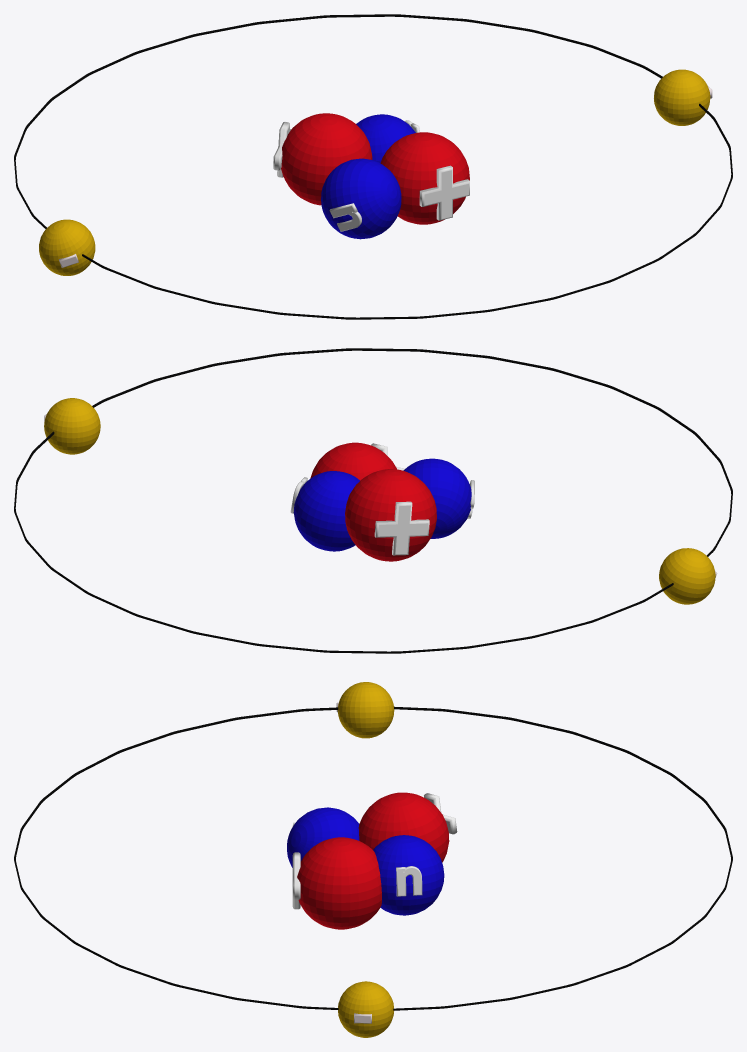
3 renders of one model, top to bottom at view 1: azimuth 30°, elevation 25°; view 2: azimuth 150°, elevation 25°; view 3: azimuth 270°, elevation 25°, orthographic.
Visible parts, largest first — view 1: Sphere.005, Sphere.004, Sphere, Circle, Sphere.003, Sphere.002, Sphere.001, Text, Text.004; view 2: Sphere.005, Circle, Sphere.001, Sphere.004, Sphere.003, Sphere.002, Sphere, Text.005; view 3: Sphere, Circle, Sphere.001, Sphere.005, Sphere.002, Sphere.003, Sphere.004, Text.001.
Part boxes in pixels (left/top/right/bottom): Sphere.005: left=281, top=113, right=372, bottom=205; Sphere.004: left=321, top=158, right=401, bottom=239; Sphere: left=380, top=132, right=469, bottom=224; Circle: left=14, top=14, right=732, bottom=319; Sphere.003: left=654, top=69, right=710, bottom=125; Sphere.002: left=39, top=219, right=95, bottom=275; Sphere.001: left=356, top=114, right=415, bottom=163; Text: left=419, top=165, right=469, bottom=220; Text.004: left=329, top=203, right=361, bottom=231; Sphere.005: left=345, top=469, right=436, bottom=561; Circle: left=14, top=348, right=732, bottom=653; Sphere.001: left=293, top=471, right=359, bottom=551; Sphere.004: left=403, top=458, right=471, bottom=538; Sphere.003: left=44, top=398, right=100, bottom=454; Sphere.002: left=659, top=548, right=715, bottom=604; Sphere: left=310, top=442, right=396, bottom=480; Text.005: left=374, top=501, right=429, bottom=555; Sphere: left=297, top=837, right=381, bottom=929; Circle: left=14, top=706, right=732, bottom=1010; Sphere.001: left=373, top=835, right=444, bottom=915; Sphere.005: left=358, top=792, right=449, bottom=862; Sphere.002: left=337, top=682, right=394, bottom=738; Sphere.003: left=338, top=981, right=393, bottom=1037; Sphere.004: left=287, top=807, right=359, bottom=867; Text.001: left=396, top=866, right=422, bottom=896.
Size of the model in its own units: 68.28 by 9.45 by 64.06.
